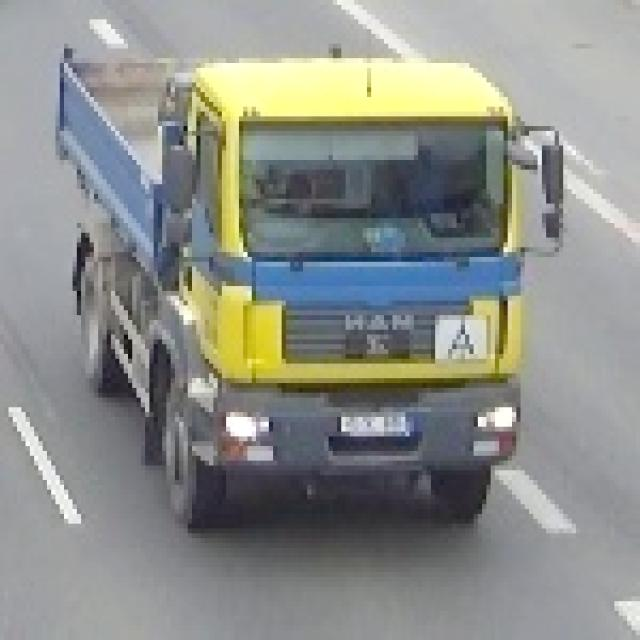truck: (52, 45, 564, 525)
